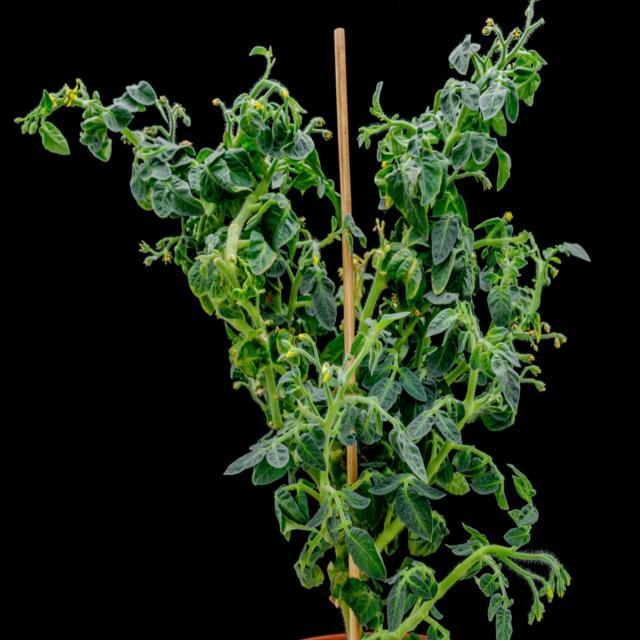tomato: (9, 0, 593, 640)
